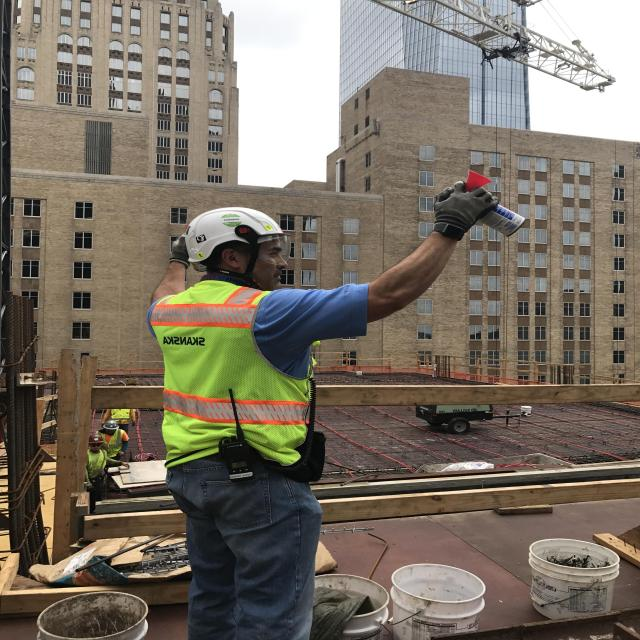Reflective-Jacket: (148, 283, 316, 469)
Safety-Helmet: (178, 202, 288, 261), (102, 420, 117, 429)
